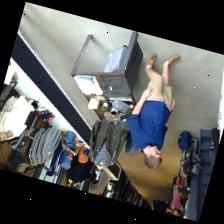person: (129, 54, 179, 168), (170, 177, 179, 215)
